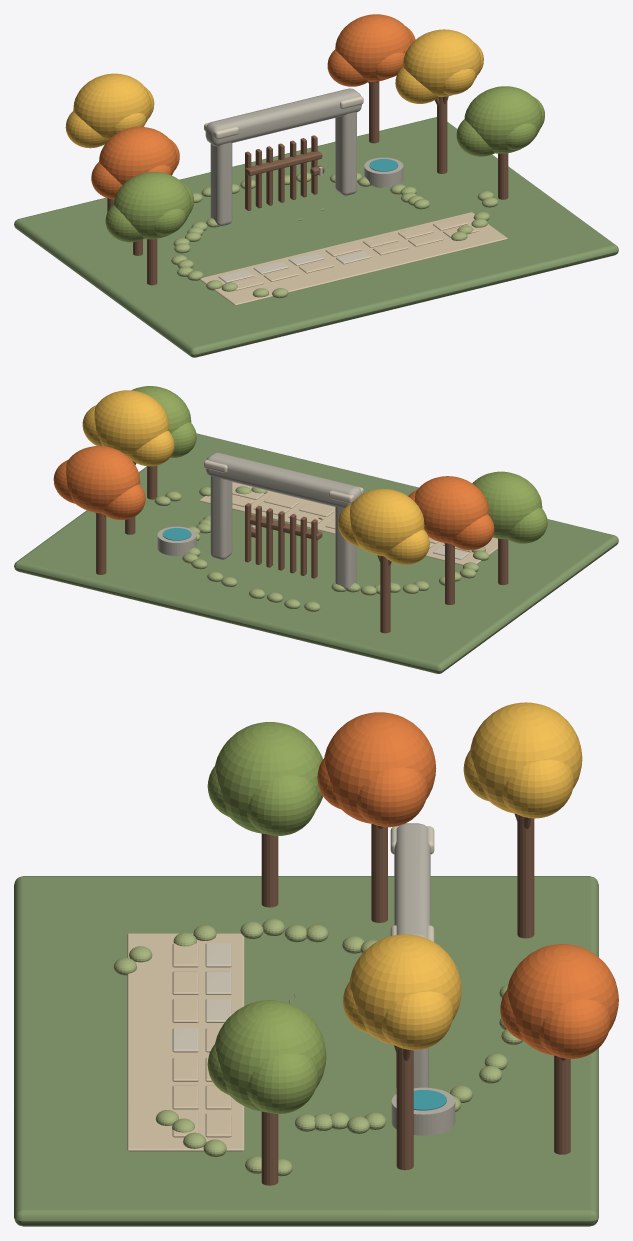
File: FoxCourtyard_Set.fbx
3 views of the same model, one above another, from view 1: azimuth 30°, elevation 25°; view 2: azimuth 150°, elevation 25°; view 3: azimuth 270°, elevation 25° (orthographic). The views are drawn at different scales.
Visible parts, largest first — view 1: Courtyard · moss lawn, Approach · pale stone path, Gate · lintel, Garden · autumn canopy.004, Garden · autumn canopy.008, Garden · autumn canopy.020, Garden · autumn canopy.016, Garden · autumn canopy.012, Garden · autumn canopy, Gate · sandstone pier, Gate · sandstone pier.001, Garden · autumn canopy.005 (+15 smaller); view 2: Courtyard · moss lawn, Garden · autumn canopy.008, Garden · autumn canopy.012, Garden · autumn canopy.004, Gate · lintel, Garden · autumn canopy, Garden · autumn canopy.016, Approach · pale stone path, Gate · sandstone pier.001, Gate · sandstone pier, Garden · autumn canopy.020, Garden · autumn canopy.005 (+19 smaller); view 3: Courtyard · moss lawn, Approach · pale stone path, Garden · autumn canopy.004, Garden · autumn canopy.008, Garden · autumn canopy.012, Garden · autumn canopy, Garden · autumn canopy.020, Garden · autumn canopy.016, Gate · lintel, Garden · autumn canopy.018, Garden · autumn canopy.022, Garden · autumn canopy.002 (+10 smaller).
Boxes of the visible parts, left/top/right/bottom form: Courtyard · moss lawn: left=14, top=117, right=618, bottom=357; Approach · pale stone path: left=200, top=212, right=507, bottom=305; Gate · lintel: left=205, top=88, right=361, bottom=146; Garden · autumn canopy.004: left=403, top=29, right=481, bottom=96; Garden · autumn canopy.008: left=73, top=73, right=151, bottom=139; Garden · autumn canopy.020: left=464, top=86, right=542, bottom=153; Garden · autumn canopy.016: left=113, top=172, right=191, bottom=239; Garden · autumn canopy.012: left=335, top=14, right=412, bottom=81; Garden · autumn canopy: left=99, top=127, right=176, bottom=184; Gate · sandstone pier: left=210, top=142, right=232, bottom=226; Gate · sandstone pier.001: left=335, top=112, right=356, bottom=195; Garden · autumn canopy.005: left=395, top=67, right=438, bottom=103; Courtyard · moss lawn: left=14, top=433, right=618, bottom=673; Garden · autumn canopy.008: left=350, top=488, right=424, bottom=556; Garden · autumn canopy.012: left=66, top=446, right=140, bottom=513; Garden · autumn canopy.004: left=94, top=390, right=168, bottom=456; Gate · lintel: left=205, top=452, right=361, bottom=508; Garden · autumn canopy: left=415, top=476, right=488, bottom=543; Garden · autumn canopy.016: left=472, top=471, right=542, bottom=539; Approach · pale stone path: left=199, top=482, right=497, bottom=565; Gate · sandstone pier.001: left=210, top=476, right=232, bottom=559; Gate · sandstone pier: left=335, top=506, right=356, bottom=589; Garden · autumn canopy.020: left=132, top=386, right=191, bottom=433; Garden · autumn canopy.005: left=129, top=430, right=174, bottom=466; Courtyard · moss lawn: left=14, top=876, right=598, bottom=1226; Approach · pale stone path: left=127, top=933, right=244, bottom=1151; Garden · autumn canopy.004: left=349, top=934, right=461, bottom=1045; Garden · autumn canopy.008: left=470, top=702, right=582, bottom=813; Garden · autumn canopy.012: left=507, top=944, right=618, bottom=1055; Garden · autumn canopy: left=324, top=712, right=436, bottom=823; Garden · autumn canopy.020: left=215, top=1000, right=326, bottom=1112; Garden · autumn canopy.016: left=215, top=722, right=322, bottom=833; Gate · lintel: left=394, top=823, right=430, bottom=938; Garden · autumn canopy.018: left=247, top=775, right=318, bottom=835; Garden · autumn canopy.022: left=247, top=1053, right=318, bottom=1113; Garden · autumn canopy.002: left=356, top=767, right=427, bottom=827.
Bounding box in the file's own units: 22.35 × 7.3 × 16.55.
